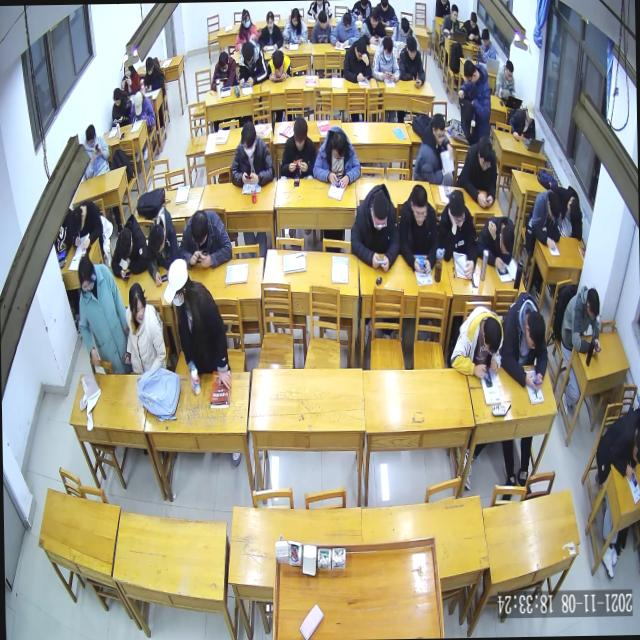bow: (178, 206, 232, 272), (144, 204, 180, 286), (109, 212, 150, 283), (475, 214, 516, 274), (529, 185, 563, 252), (70, 197, 104, 253), (265, 49, 293, 85)
down: (522, 310, 546, 353), (188, 208, 210, 248), (409, 183, 428, 229), (482, 315, 502, 358), (368, 192, 389, 232), (76, 253, 96, 294), (448, 188, 466, 230), (146, 222, 166, 258), (115, 226, 134, 263), (240, 120, 258, 158), (330, 130, 348, 163), (585, 286, 601, 323), (292, 116, 308, 152), (498, 224, 514, 258), (546, 191, 561, 224), (70, 204, 86, 234), (565, 196, 581, 226), (462, 59, 478, 86), (353, 37, 368, 63), (84, 123, 98, 149), (240, 40, 254, 66), (404, 36, 418, 62), (381, 36, 394, 62), (524, 99, 536, 127), (217, 50, 229, 74), (132, 90, 143, 116), (503, 58, 514, 84), (272, 49, 284, 72), (368, 6, 380, 29), (341, 10, 353, 32), (111, 86, 122, 108), (400, 16, 411, 38), (290, 6, 300, 28), (480, 27, 490, 49), (144, 56, 154, 76), (469, 11, 478, 30)
lookup: (122, 60, 133, 82), (265, 10, 275, 32), (449, 3, 459, 25)
sit: (164, 256, 232, 394), (76, 254, 128, 376), (499, 290, 549, 392), (349, 180, 402, 274), (447, 302, 505, 382), (122, 280, 167, 378), (397, 180, 439, 277), (436, 188, 478, 280), (593, 406, 640, 484), (558, 282, 604, 356), (228, 119, 276, 188), (310, 125, 361, 189), (460, 128, 499, 210), (420, 135, 466, 202), (457, 58, 491, 143), (278, 116, 318, 180), (235, 38, 268, 88), (557, 182, 584, 242), (82, 123, 109, 179), (398, 34, 425, 90), (342, 35, 372, 85), (371, 35, 400, 85), (508, 98, 538, 144), (328, 8, 359, 49), (210, 50, 238, 93), (360, 5, 388, 46), (257, 10, 284, 52), (281, 6, 309, 45), (234, 8, 258, 53), (130, 90, 156, 128), (110, 86, 132, 128), (494, 58, 516, 100), (310, 8, 334, 45), (119, 59, 141, 97), (475, 26, 496, 64), (441, 2, 462, 40), (142, 55, 164, 91), (391, 16, 417, 46), (461, 11, 481, 44)
